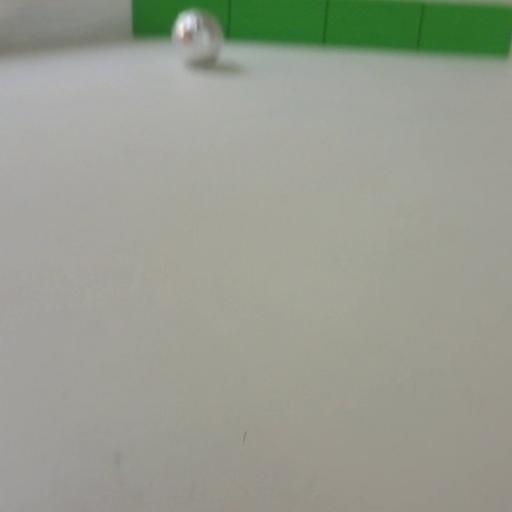alive: (172, 8, 224, 66)
